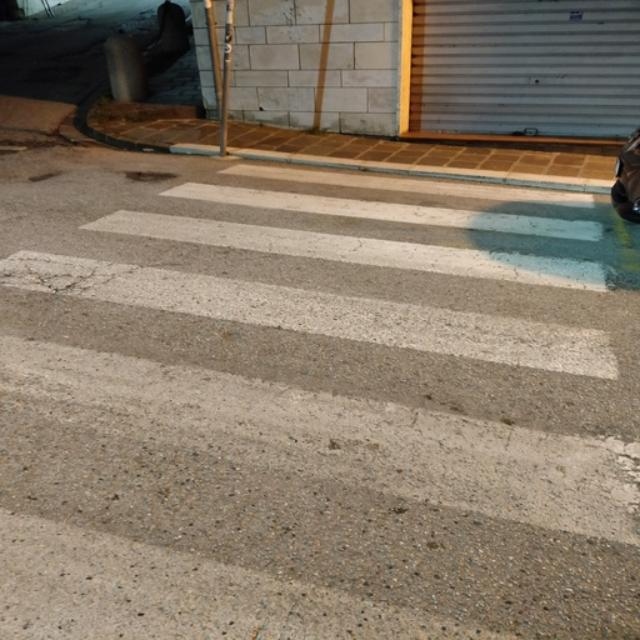sidewalk: (0, 165, 638, 639)
